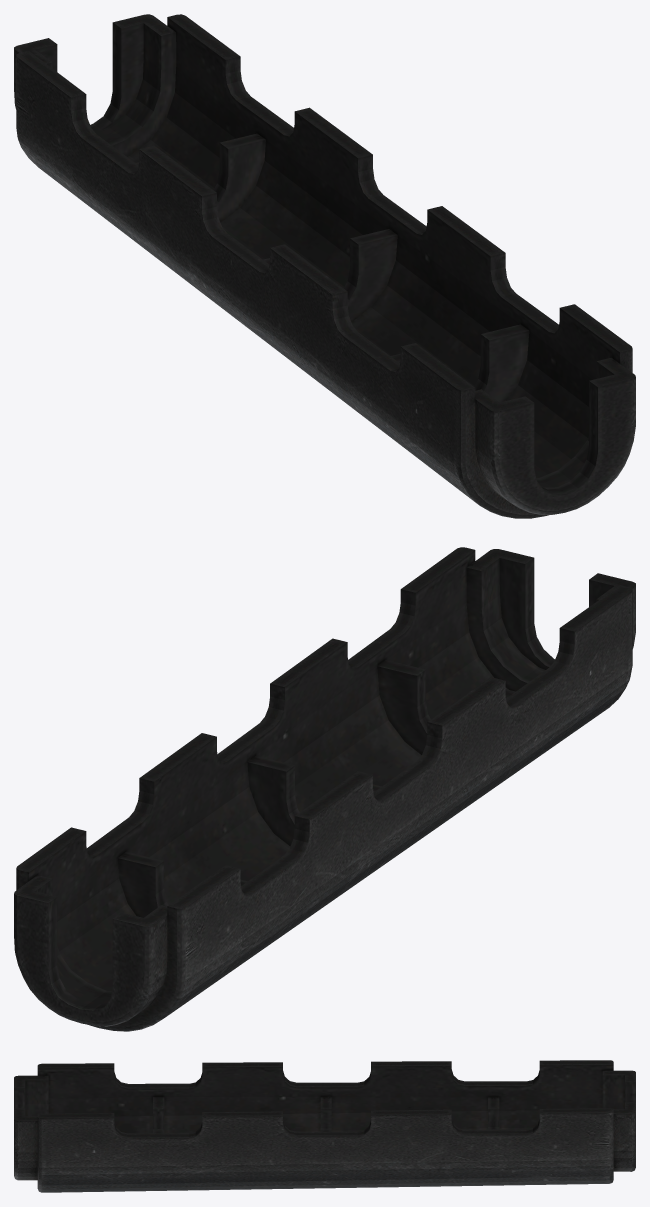
3 views of the same model, one above another, from view 1: azimuth 30°, elevation 25°; view 2: azimuth 150°, elevation 25°; view 3: azimuth 270°, elevation 25° (orthographic). The views are drawn at different scales.
Visible parts, largest first — view 1: TW_653ecc425a1690d9d90491e4_PZ_Import; view 2: TW_653ecc425a1690d9d90491e4_PZ_Import; view 3: TW_653ecc425a1690d9d90491e4_PZ_Import.
Boxes of the visible parts, <box> form: TW_653ecc425a1690d9d90491e4_PZ_Import: <box>14,14,635,518</box>; TW_653ecc425a1690d9d90491e4_PZ_Import: <box>14,547,635,1031</box>; TW_653ecc425a1690d9d90491e4_PZ_Import: <box>14,1060,635,1192</box>.
Size of the model in its own units: 0.0175 by 0.0843 by 0.0149.
Materials: 1 (1 with a texture image).
